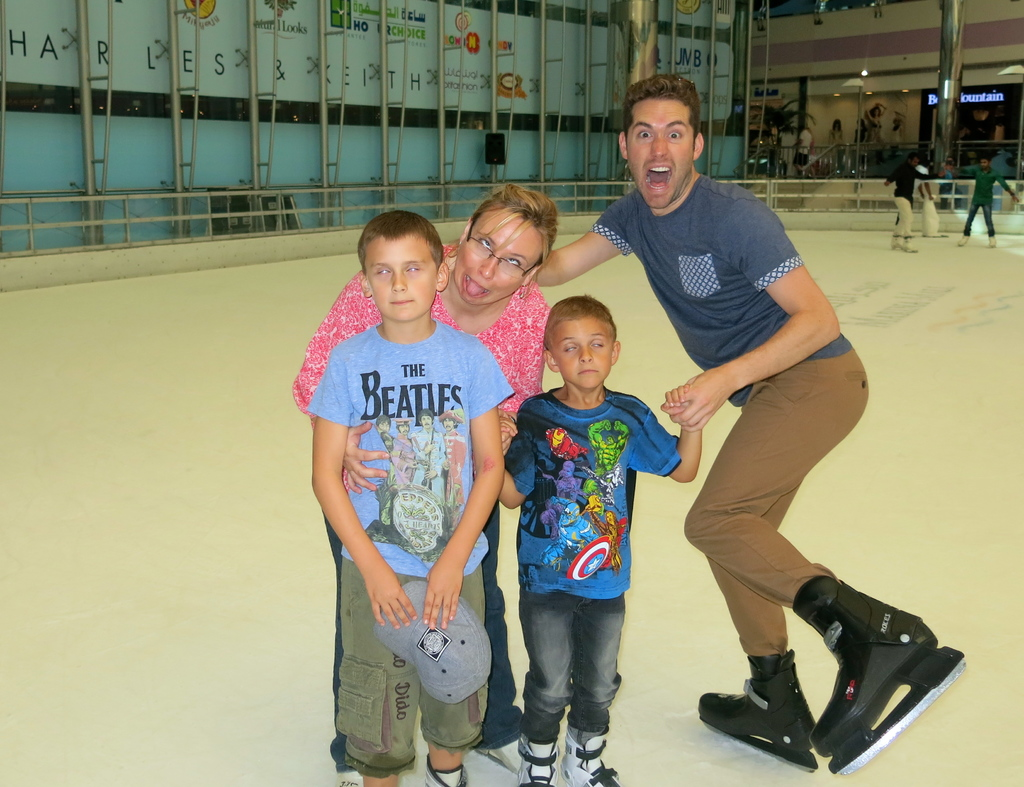face: (455, 180, 557, 317), (615, 70, 706, 223), (354, 207, 450, 335), (546, 297, 624, 401)
